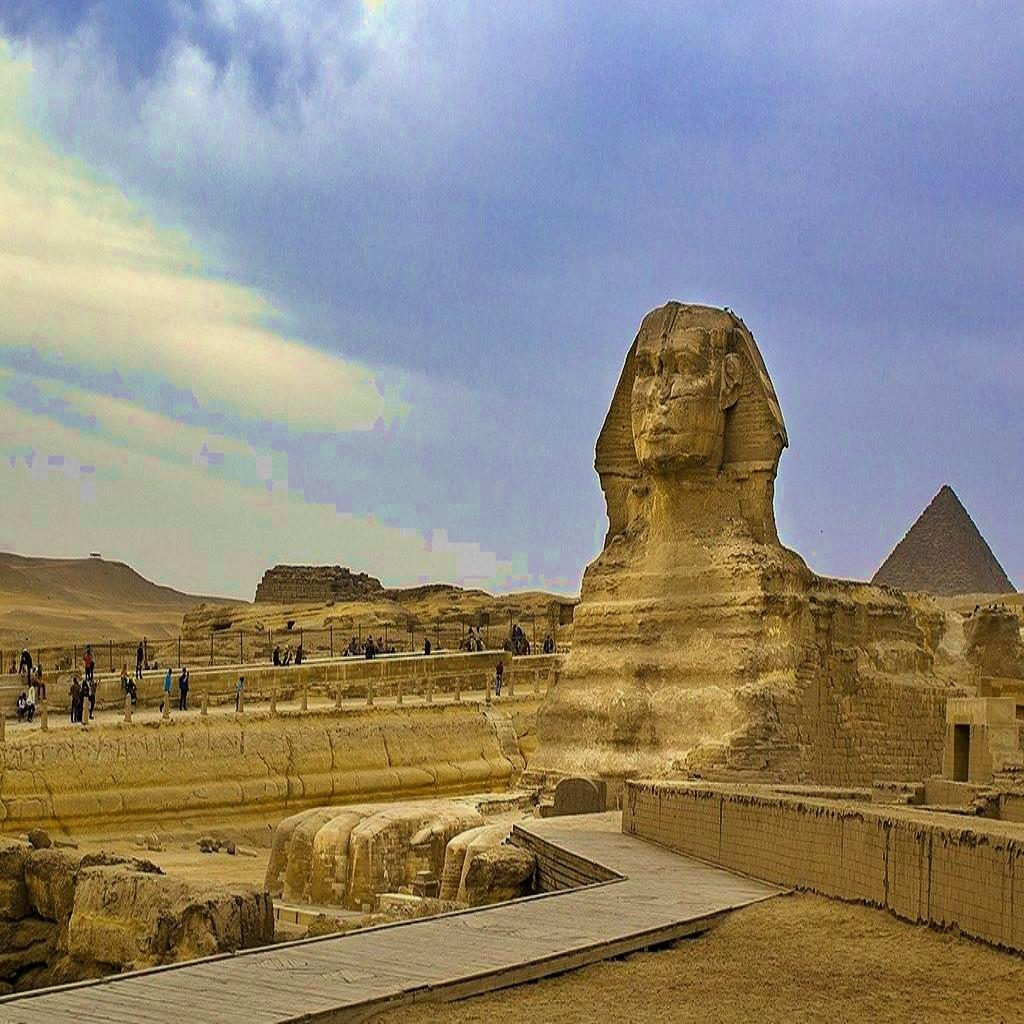Sphinx: (524, 295, 822, 793)
